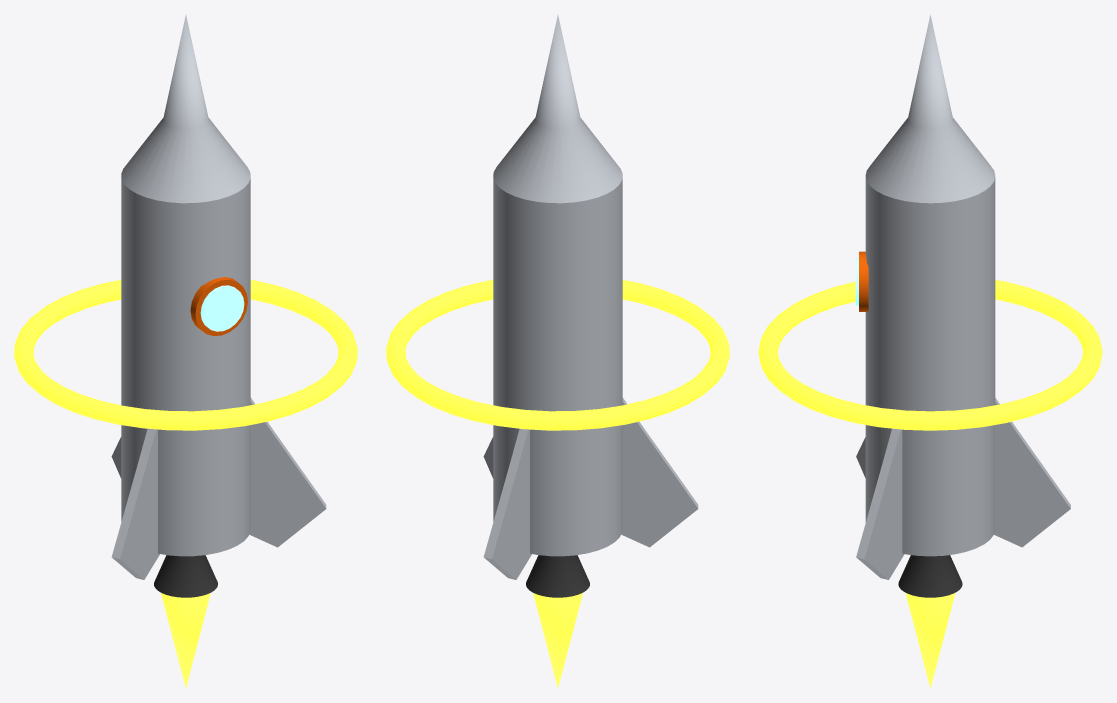
File: Rocket_18_HaloProbe.fbx
The picture shows the model from 3 angles, left to right: view 1: azimuth 30°, elevation 25°; view 2: azimuth 150°, elevation 25°; view 3: azimuth 270°, elevation 25°; orthographic projection.
Parts seen in each view (by area): view 1: R18_Body, R18_Halo_1, R18_Nose, R18_Fin_3, R18_Fin_2, R18_Flame_1, R18_Nozzle_1, R18_Window_1, R18_WindowFrame_1; view 2: R18_Body, R18_Halo_1, R18_Nose, R18_Fin_2, R18_Fin_1, R18_Flame_1, R18_Nozzle_1; view 3: R18_Body, R18_Halo_1, R18_Nose, R18_Fin_1, R18_Fin_3, R18_Flame_1, R18_Nozzle_1, R18_WindowFrame_1.
Boxes of the visible parts, x1=… form: R18_Body: x1=121, y1=178, x2=250, y2=556; R18_Halo_1: x1=14, y1=280, x2=357, y2=430; R18_Nose: x1=121, y1=15, x2=250, y2=203; R18_Fin_3: x1=249, y1=397, x2=326, y2=547; R18_Fin_2: x1=111, y1=428, x2=159, y2=579; R18_Flame_1: x1=161, y1=593, x2=210, y2=687; R18_Nozzle_1: x1=154, y1=555, x2=217, y2=597; R18_Window_1: x1=200, y1=285, x2=244, y2=331; R18_WindowFrame_1: x1=190, y1=277, x2=247, y2=335; R18_Body: x1=493, y1=178, x2=622, y2=556; R18_Halo_1: x1=386, y1=280, x2=729, y2=430; R18_Nose: x1=493, y1=15, x2=622, y2=203; R18_Fin_2: x1=621, y1=397, x2=698, y2=547; R18_Fin_1: x1=483, y1=429, x2=531, y2=579; R18_Flame_1: x1=533, y1=593, x2=582, y2=687; R18_Nozzle_1: x1=526, y1=555, x2=589, y2=597; R18_Body: x1=865, y1=177, x2=995, y2=556; R18_Halo_1: x1=758, y1=280, x2=1102, y2=430; R18_Nose: x1=865, y1=14, x2=995, y2=203; R18_Fin_1: x1=994, y1=398, x2=1070, y2=547; R18_Fin_3: x1=856, y1=428, x2=904, y2=579; R18_Flame_1: x1=905, y1=592, x2=955, y2=688; R18_Nozzle_1: x1=898, y1=555, x2=962, y2=597; R18_WindowFrame_1: x1=859, y1=251, x2=868, y2=311.
Bounding box in the file's own units: 4.24 × 9.17 × 4.24.
